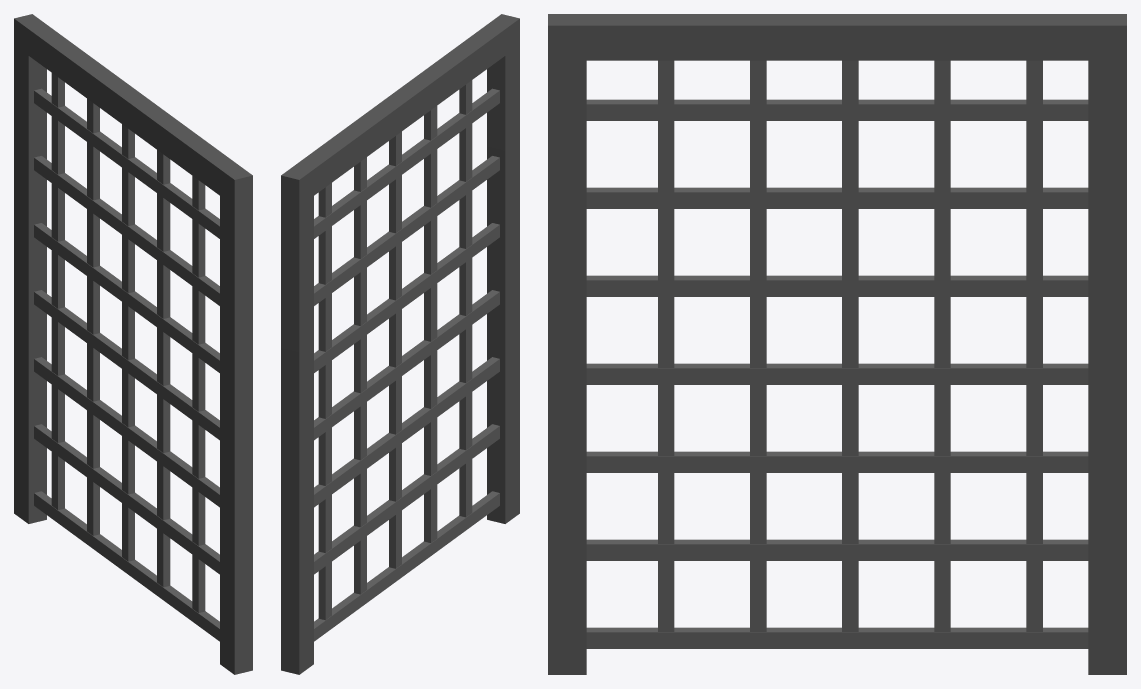
File: Fence_1_F_2.fbx
3 renders of one model, left to right at view 1: azimuth 30°, elevation 25°; view 2: azimuth 150°, elevation 25°; view 3: azimuth 270°, elevation 25°, orthographic. The views are drawn at different scales.
Parts seen in each view (by area): view 1: Fence_1_F_2; view 2: Fence_1_F_2; view 3: Fence_1_F_2.
Boxes of the visible parts, x1,y1,x2,y2 form: Fence_1_F_2: (14, 14, 252, 674); Fence_1_F_2: (281, 14, 519, 674); Fence_1_F_2: (548, 14, 1126, 674).
Bounding box in the file's own units: 9.6 × 248 × 200.
